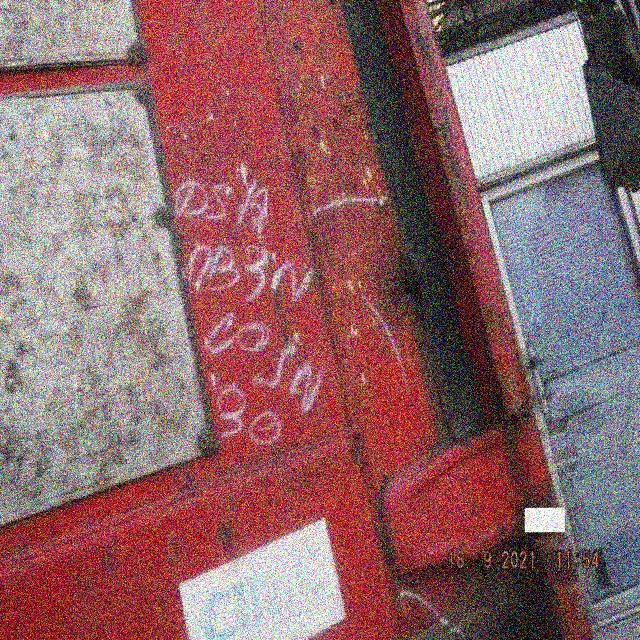Hole: (400, 276, 419, 300)
Rusty: (390, 257, 425, 322)
